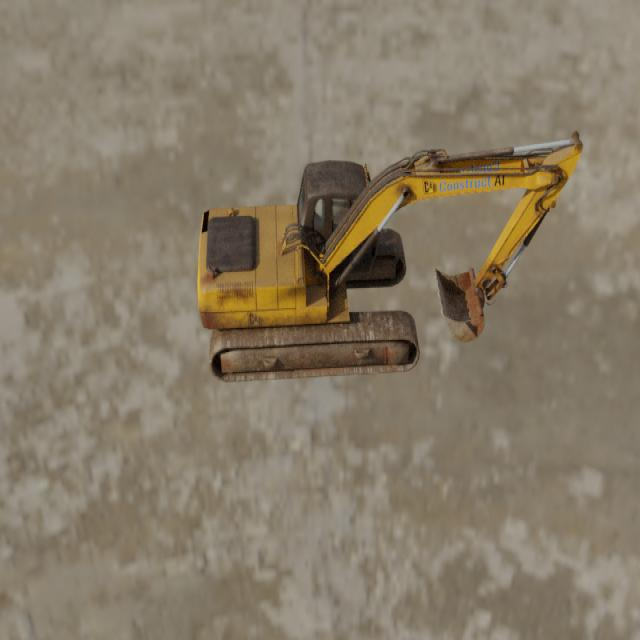excavator: (196, 129, 583, 383)
